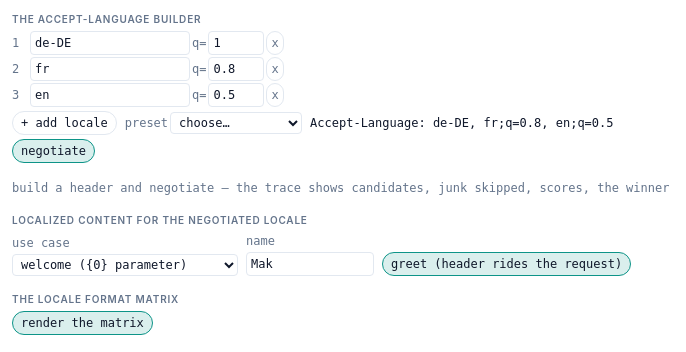
Test case: NegotiatorDemo › composes the header from rows, q-suffixing only non-1 weights
Expected: the text with test id "i18n-header-value" shows "Accept-Language: de-DE, fr;q=0.8, en", [310, 114, 614, 132]
Step 1. Type "0.9" into the field with test id "i18n-row-1-q" → [236, 43], box [208, 31, 264, 55]
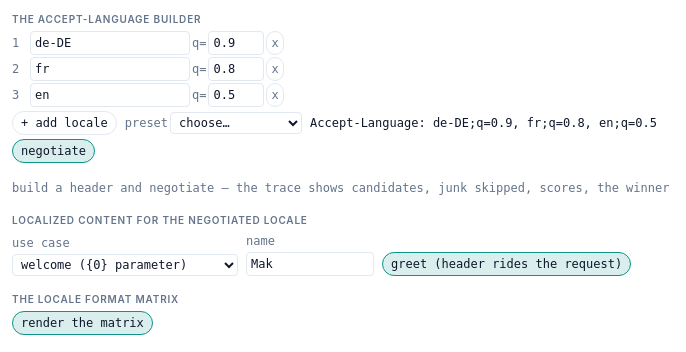
Now the text with test id "i18n-header-value" shows "de-DE;q=0.9", box [433, 116, 657, 130]
